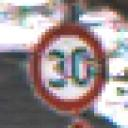speed_limit_30: (27, 22, 112, 113)
